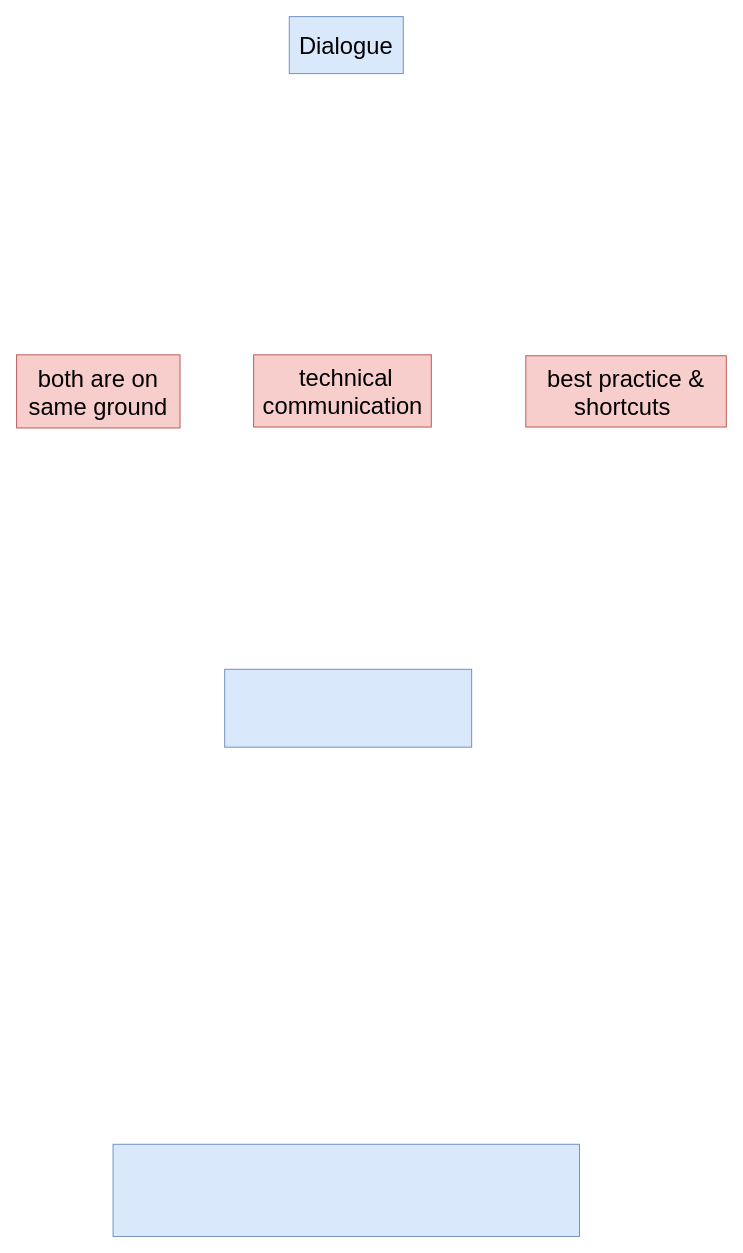
Some shapes in this 743 by 1253 pixel diagram are drawn without their labels. The centre of each missing label's shape, as x and y in pixels:
How do computers work?: (x=348, y=707)
Write a function to separate digits of a given number: (x=346, y=1189)
